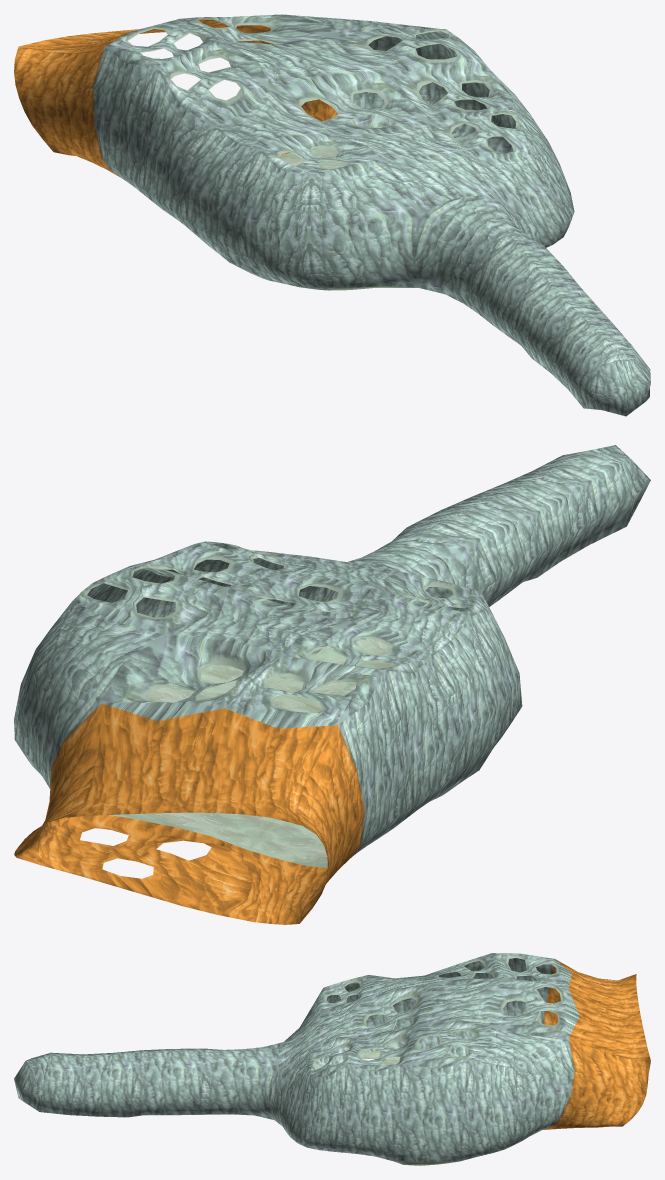
The model's file is TROLLHOLE02_PS-UPPERCAVE.fbx.
3 views of the same model, one above another, from view 1: azimuth 30°, elevation 25°; view 2: azimuth 150°, elevation 25°; view 3: azimuth 270°, elevation 25° (orthographic). The views are drawn at different scales.
Visible parts, largest first — view 1: TROLLHOLE02_PS-UPPERCAVE; view 2: TROLLHOLE02_PS-UPPERCAVE; view 3: TROLLHOLE02_PS-UPPERCAVE.
Part boxes in pixels (box(x1,y1,x2,y2)): TROLLHOLE02_PS-UPPERCAVE: box(14, 14, 650, 416); TROLLHOLE02_PS-UPPERCAVE: box(14, 445, 650, 924); TROLLHOLE02_PS-UPPERCAVE: box(14, 953, 650, 1165).
Bounding box in the file's own units: 173132 × 68191 × 367820.
Materials: 12 (12 with a texture image).
